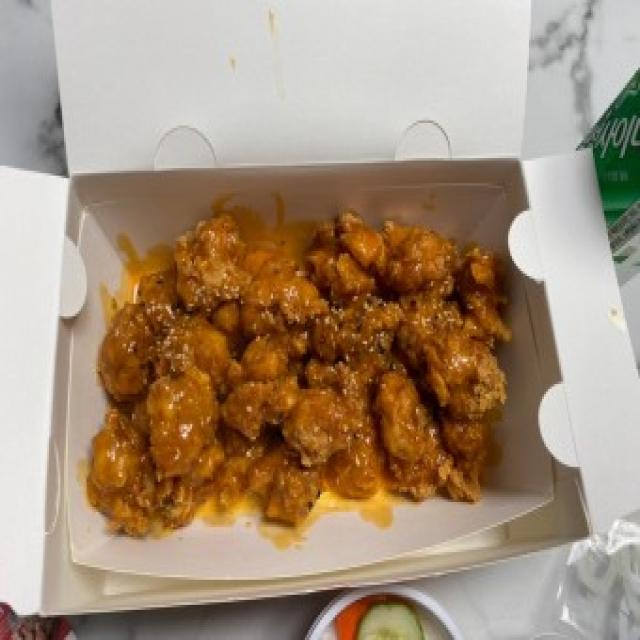Frango: (82, 198, 526, 536)
